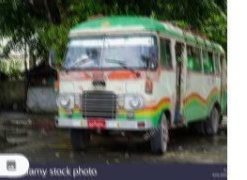bus: (57, 13, 225, 153)
